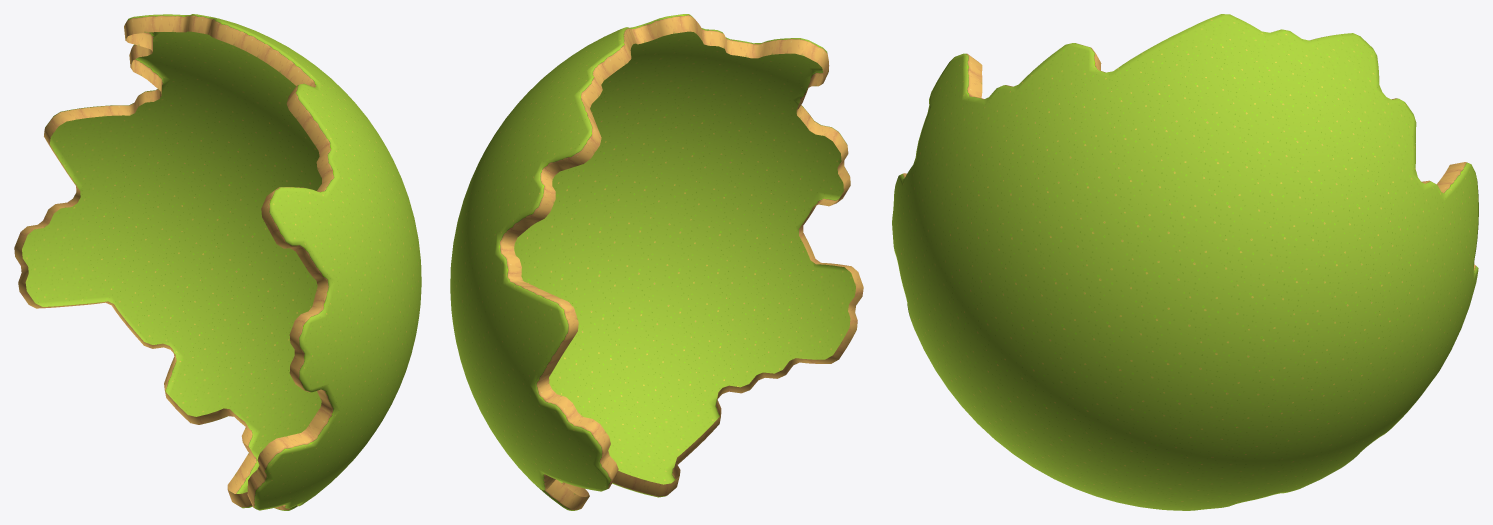
The model's file is planet_goldRush.fbx.
3 views of the same model, side by side, from view 1: azimuth 30°, elevation 25°; view 2: azimuth 150°, elevation 25°; view 3: azimuth 270°, elevation 25° (orthographic). The views are drawn at different scales.
Parts seen in each view (by area): view 1: planet_goldRush; view 2: planet_goldRush; view 3: planet_goldRush.
Boxes of the visible parts, left/top/right/bottom form: planet_goldRush: left=14, top=14, right=421, bottom=510; planet_goldRush: left=450, top=14, right=863, bottom=510; planet_goldRush: left=892, top=14, right=1478, bottom=510.
Bounding box in the file's own units: 15.74 × 28 × 29.69.
